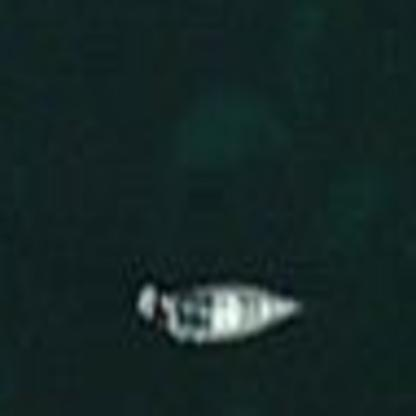ship: (124, 269, 318, 353)
